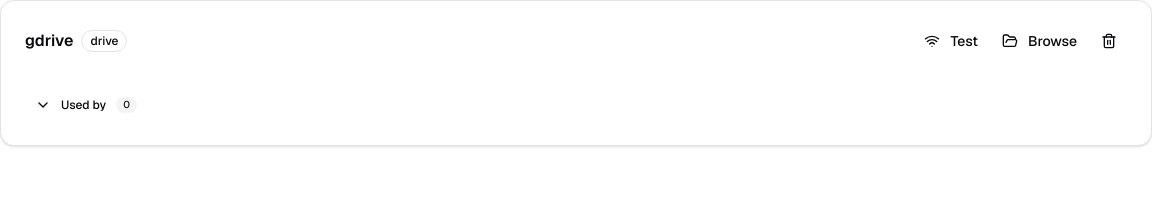
Test case: RemoteCard › says when nothing uses the remote
Click the button "Used by 0" at (86, 105), box left=25, top=89, right=147, bottom=121
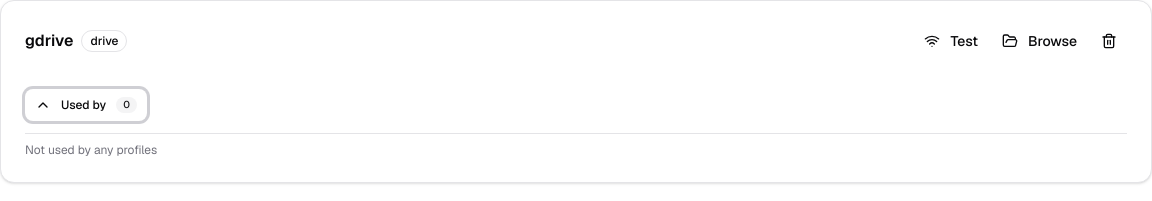
Check: the text "Not used by any profiles" is shown, box left=25, top=142, right=157, bottom=158
